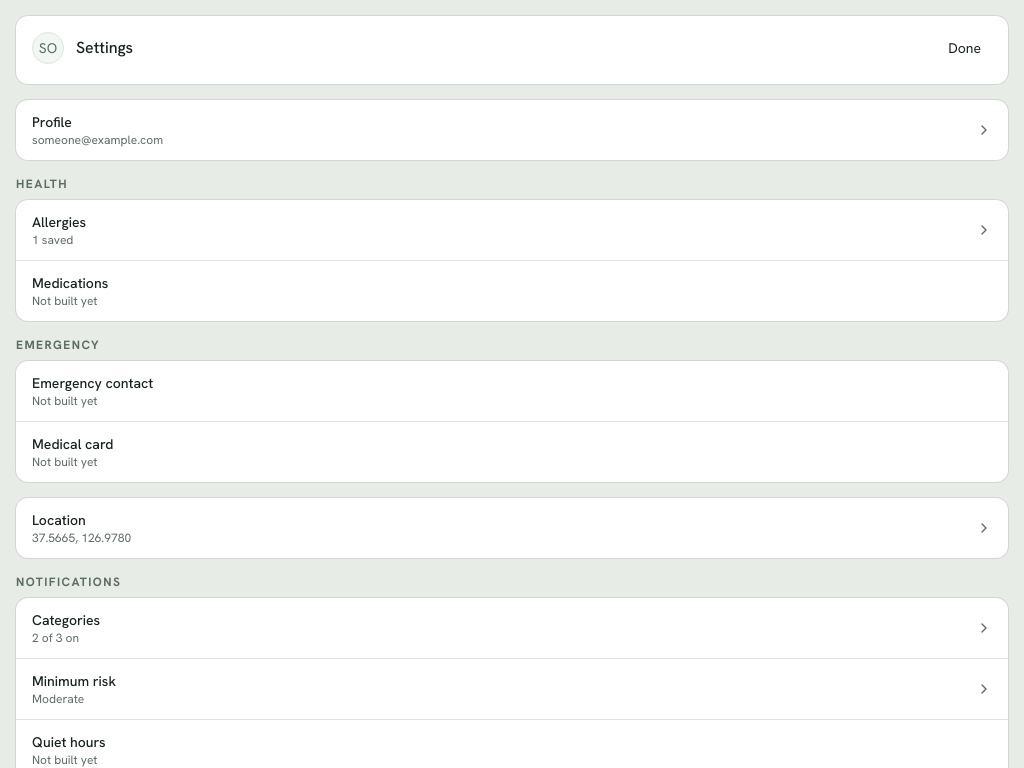
Test case: SettingsPage profile and health screens › shows a saved allergy with its human label and severity
Step 1. Click the button "Allergies 1 saved" → click(59, 222), box [16,200,1008,261]
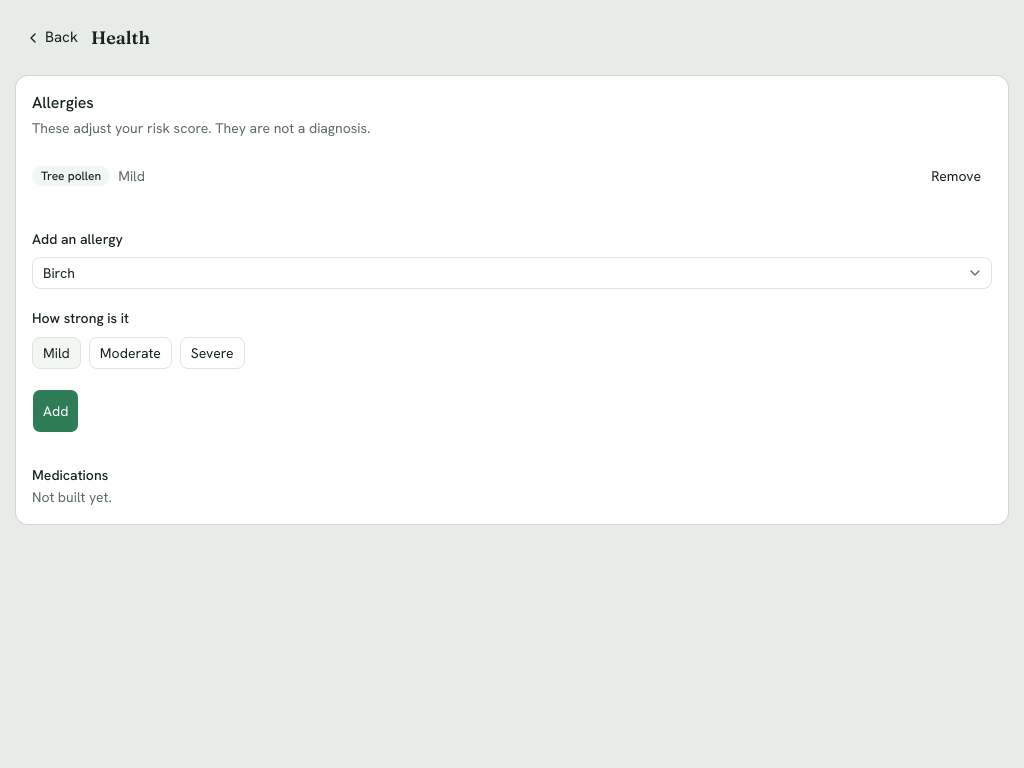
expect the list item "Remove Tree pollen" is shown: met, box [41,168,101,184]
expect the list item "Remove Tree pollen" shows "Mild": met, box [118,167,145,185]
